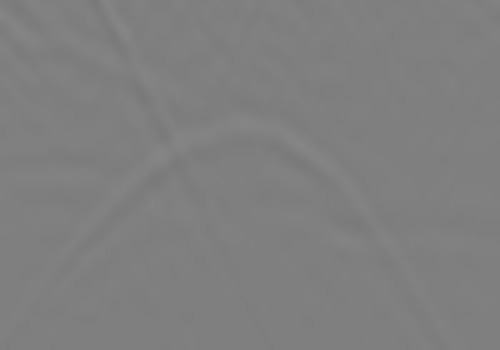hyperbola: (56, 109, 430, 324)
